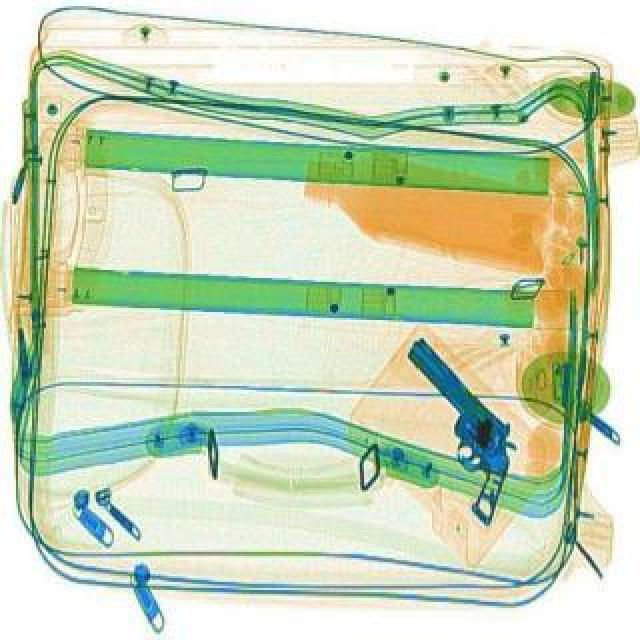gun: (350, 338, 554, 534)
